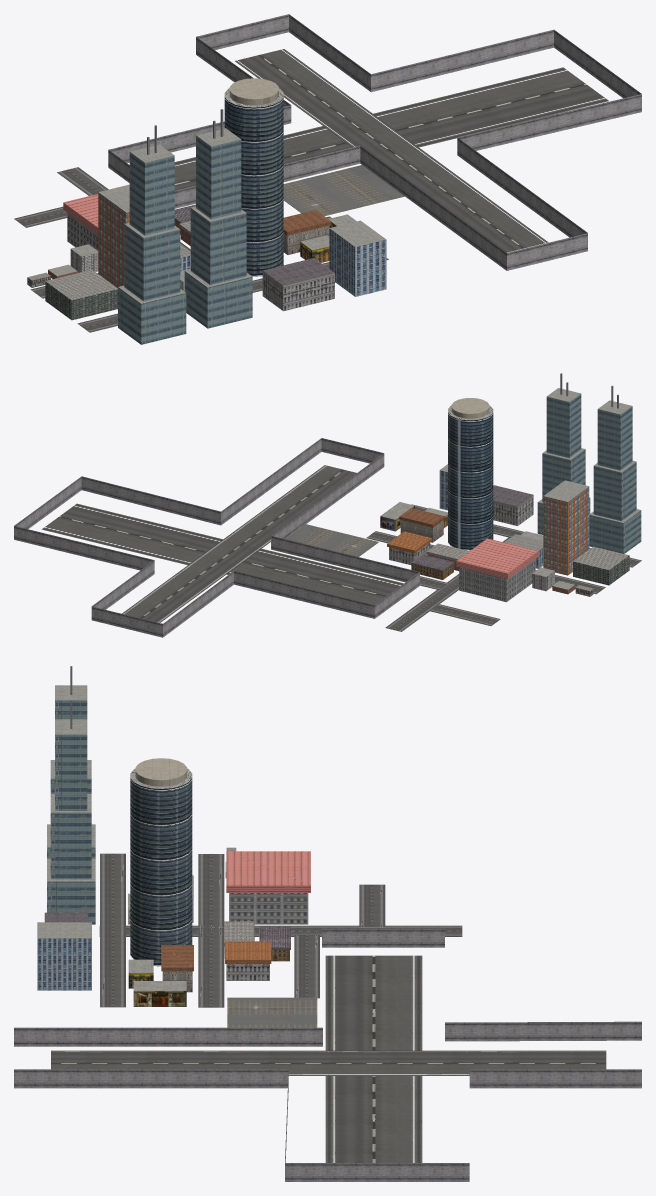
Rendered from city.obj.
3 views of the same model, one above another, from view 1: azimuth 30°, elevation 25°; view 2: azimuth 150°, elevation 25°; view 3: azimuth 270°, elevation 25° (orthographic). The views are drawn at different scales.
Visible parts, largest first — view 1: Line001, Plane002, Plane003, Cylinder001, Box007, Box019, Box020, Box021, Box018, h8, Box022, Box017 (+13 smaller); view 2: Line001, Plane003, Plane002, Cylinder001, h15, Box019, Box020, Box021, Box024, Box022, Box023, Box051 (+18 smaller); view 3: Line001, Plane003, Plane002, Cylinder001, Box003, Box002, h8, Box024, Box018, Box019, Box007, Box023 (+10 smaller).
Boxes of the visible parts, box(x1,y1,x2,y2) form: Line001: box(108, 14, 641, 270); Plane002: box(235, 49, 548, 252); Plane003: box(174, 67, 608, 190); Cylinder001: box(224, 88, 283, 276); Box007: box(283, 165, 404, 215); Box019: box(196, 128, 241, 219); Box020: box(129, 144, 174, 235); Box021: box(124, 222, 180, 301); Box018: box(190, 206, 246, 285); h8: box(329, 220, 386, 296); Box022: box(118, 285, 186, 344); Box017: box(184, 269, 252, 328); Line001: box(14, 438, 419, 637); Plane003: box(42, 503, 403, 604); Plane002: box(122, 465, 356, 622); Cylinder001: box(448, 405, 493, 550); h15: box(543, 480, 589, 575); Box019: box(546, 388, 581, 458); Box020: box(597, 400, 632, 470); Box021: box(593, 460, 636, 521); Box024: box(456, 538, 538, 578); Box022: box(589, 509, 641, 553); Box023: box(459, 559, 535, 602); Box051: box(573, 546, 629, 585); Line001: box(14, 928, 641, 1181); Plane003: box(325, 955, 422, 1162); Plane002: box(51, 1050, 606, 1075); Cylinder001: box(130, 768, 192, 966); Box003: box(198, 854, 224, 1007); Box002: box(100, 853, 125, 1007); h8: box(37, 922, 91, 990); Box024: box(226, 851, 310, 892); Box018: box(50, 794, 91, 879); Box019: box(55, 719, 87, 810); Box007: box(227, 997, 317, 1027); Box023: box(229, 893, 308, 924).
Bounding box in the file's own units: 6310 × 1924 × 5100.
45 materials, 42 textured.
